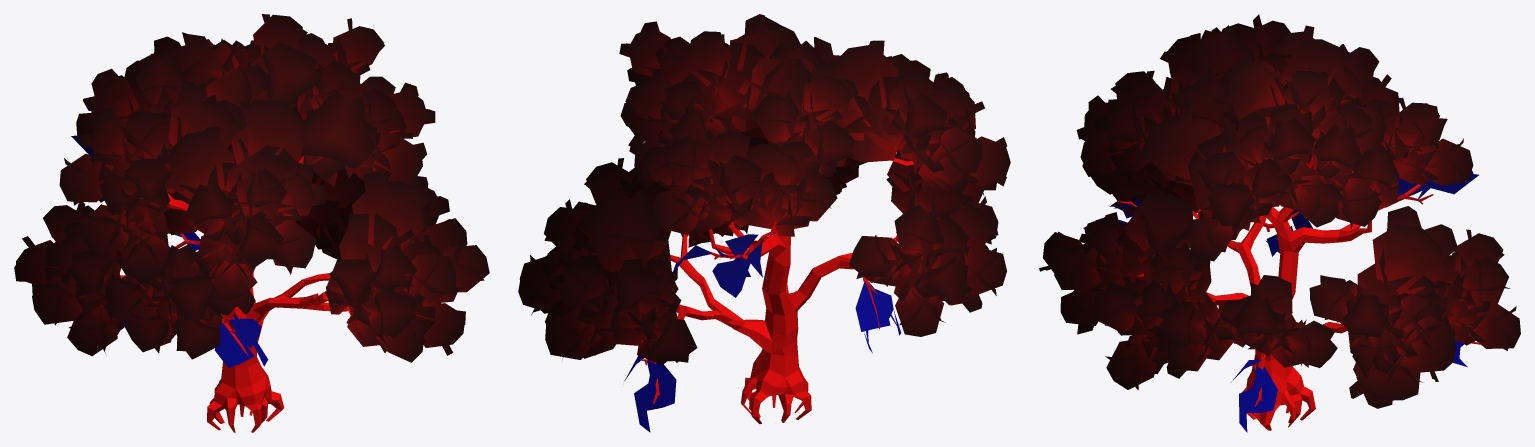
The model's file is SM_Tree_Generic_Giant_01.fbx.
3 views of the same model, side by side, from view 1: azimuth 30°, elevation 25°; view 2: azimuth 150°, elevation 25°; view 3: azimuth 270°, elevation 25° (orthographic). The views are drawn at different scales.
Visible parts, largest first — view 1: SM_Tree_Generic_Giant_01; view 2: SM_Tree_Generic_Giant_01; view 3: SM_Tree_Generic_Giant_01.
Boxes of the visible parts, box(x1,y1,x2,y2) form: SM_Tree_Generic_Giant_01: box(14, 14, 489, 432); SM_Tree_Generic_Giant_01: box(518, 14, 1010, 432); SM_Tree_Generic_Giant_01: box(1039, 14, 1520, 432).
Bounding box in the file's own units: 1260 × 1119 × 1312.
